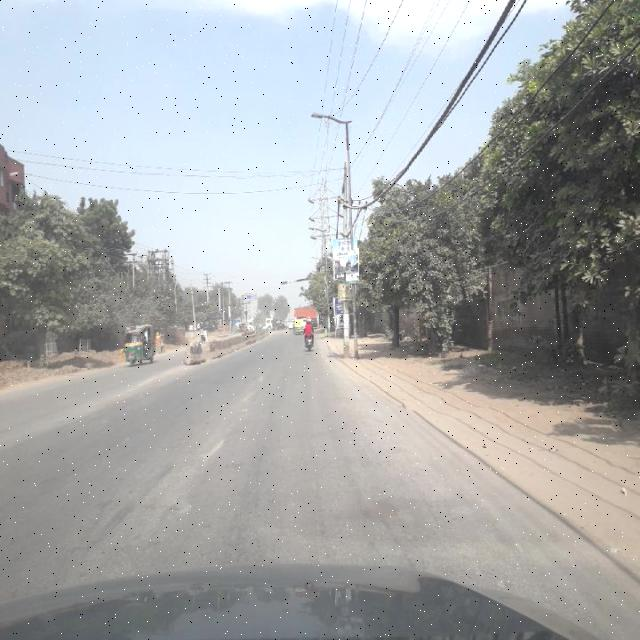D00: (203, 367, 265, 461)
